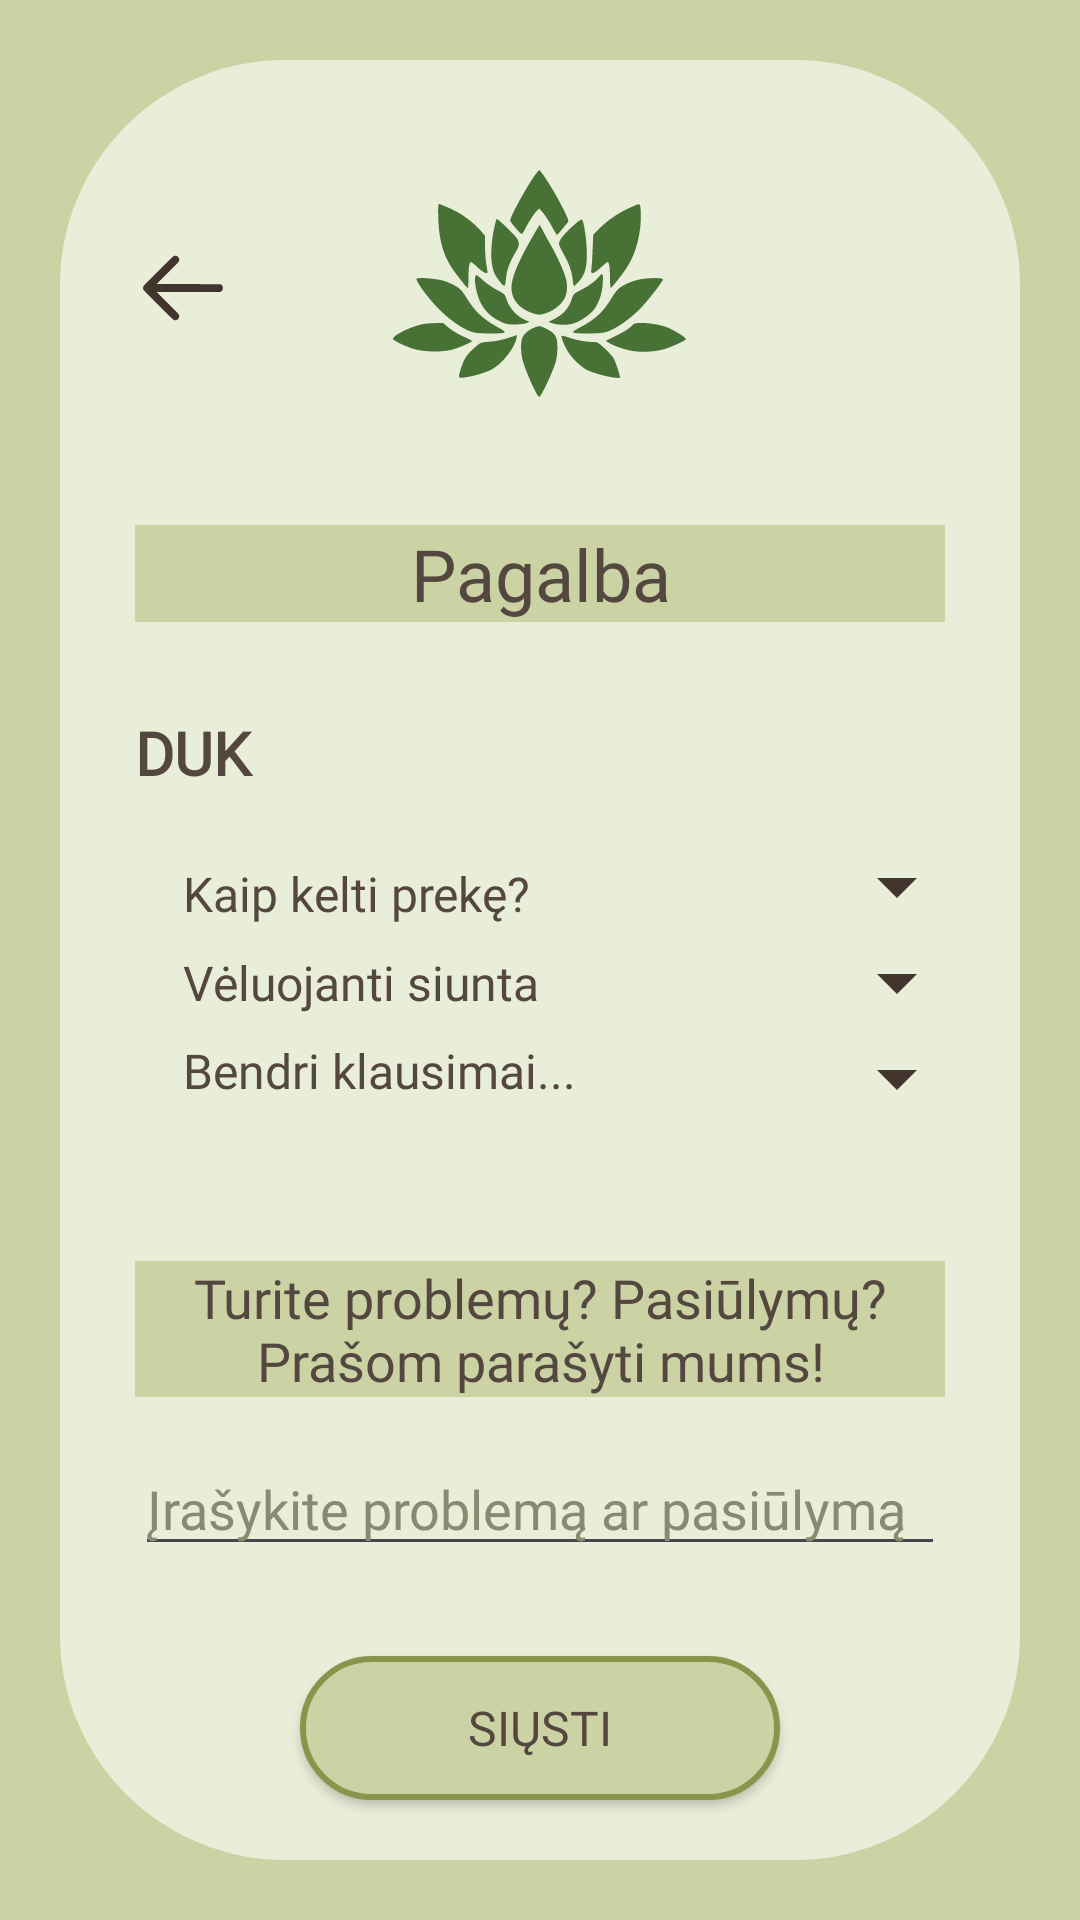

Icon bounding boxes for this 1080 × 1920 phone screenshot, format box(x1, y1, x2, y2):
arrow down: box(877, 878, 917, 898), box(877, 974, 917, 994), box(877, 1070, 917, 1090)
lotus: box(393, 170, 686, 397)
